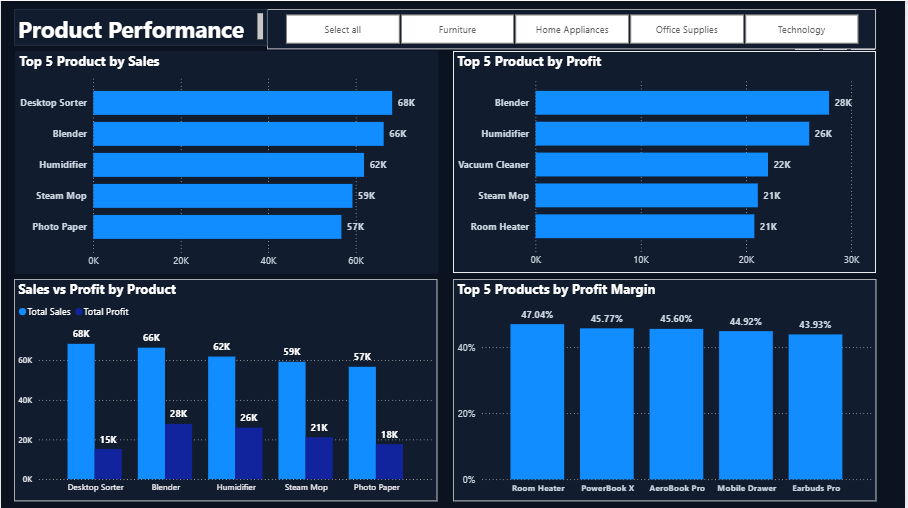

This screenshot's page, from the dashboard's own definition file:
{"tool":"powerbi","page":{"name":"Product Performance","canvas":[1280,720],"ordinal":2},"visuals":[{"type":"clusteredBarChart","title":"Top 5 Product by Sales","fields":{"Category":["Dim_Product.Product_Name"],"Y":["ALL_DAX.Total Sales"]},"box":[19.8,70.9,599.5,316.1],"z":0},{"type":"clusteredBarChart","title":"Top 5 Product by Profit","fields":{"Category":["Dim_Product.Product_Name"],"Y":["ALL_DAX.Total Profit"]},"box":[640.6,70.9,600,315],"z":1000},{"type":"clusteredColumnChart","title":"Sales vs Profit by Product","fields":{"Category":["Dim_Product.Product_Name"],"Y":["ALL_DAX.Total Sales","ALL_DAX.Total Profit"]},"box":[18.4,394,600,315],"z":2000},{"type":"clusteredColumnChart","title":"Top 5 Products by Profit Margin","fields":{"Category":["Dim_Product.Product_Name"],"Y":["ALL_DAX.Profit Margin %"]},"box":[640.6,394,600,315],"z":3000},{"type":"slicer","fields":{"Values":["Dim_Product.Category"]},"box":[377,11.3,863.1,56.7],"z":4000},{"type":"textbox","box":[18.4,11.3,358.6,52.4],"z":5000}]}

Visuals, with their boxes in screenshot pixels (x1, y1, x2, y2), scaled from the page's 1280x720 canvas onto the 908x508 screenshot:
"Top 5 Product by Sales" clusteredBarChart: detection(14, 50, 439, 273)
"Top 5 Product by Profit" clusteredBarChart: detection(454, 50, 880, 272)
"Sales vs Profit by Product" clusteredColumnChart: detection(13, 278, 439, 500)
"Top 5 Products by Profit Margin" clusteredColumnChart: detection(454, 278, 880, 500)
slicer - Dim_Product.Category: detection(267, 8, 880, 48)
textbox: detection(13, 8, 267, 45)
